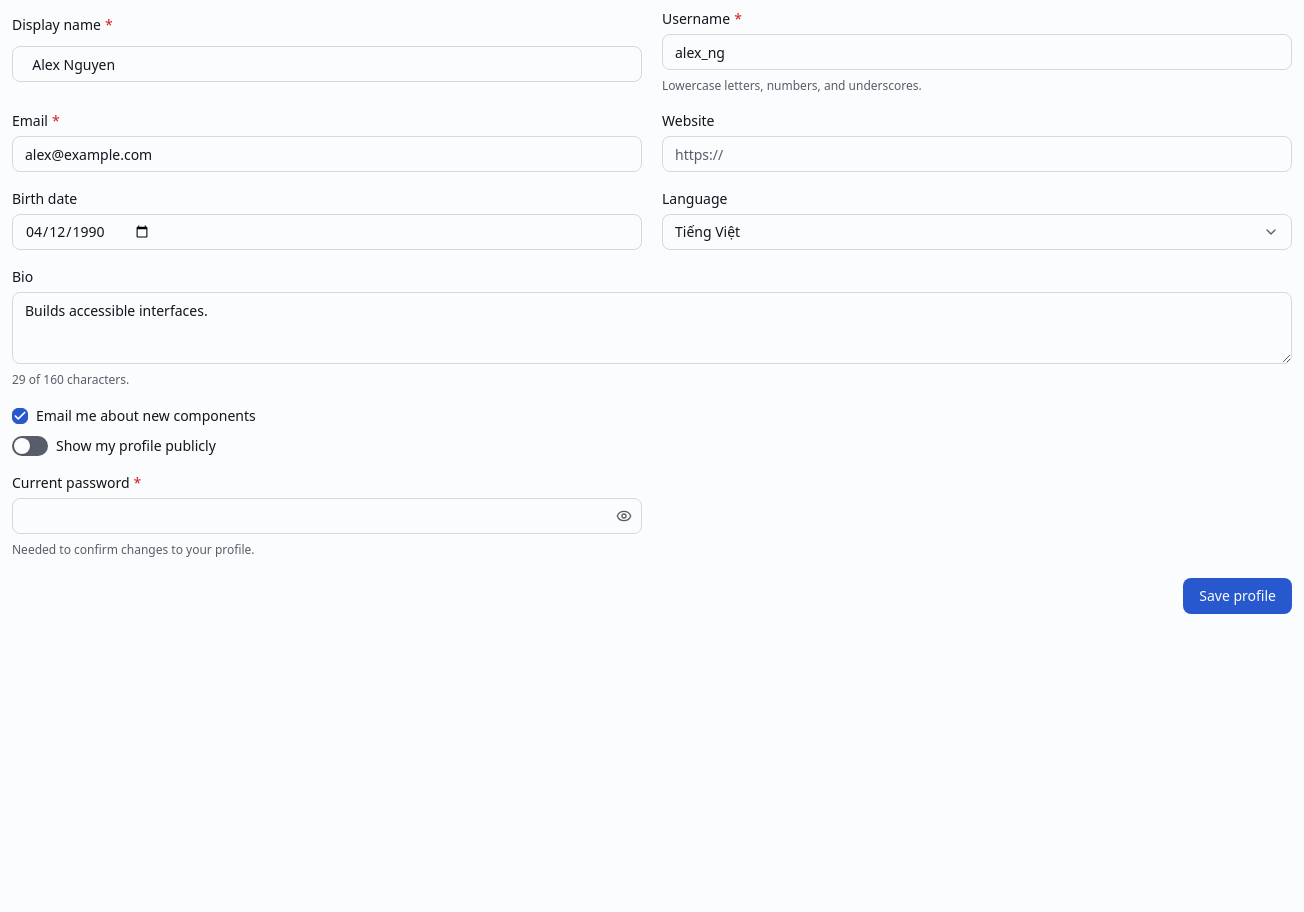
it: ProfileForm › submits typed, parsed values and announces success
Click the checkbox named "Email me about new components": {"x": 20, "y": 416} [12,408,28,424]
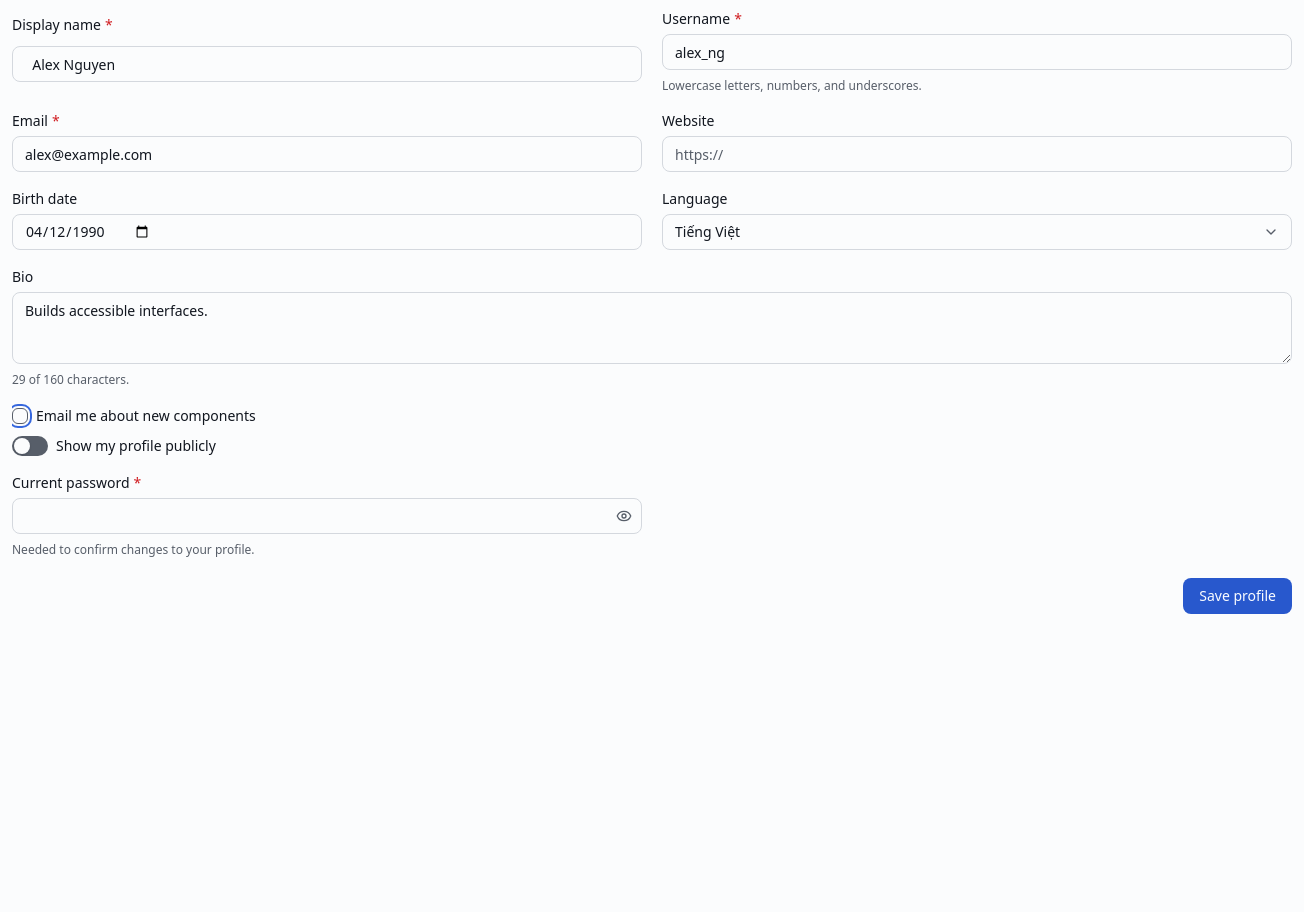
Click the switch named "Show my profile publicly": {"x": 30, "y": 446} [12,436,48,456]
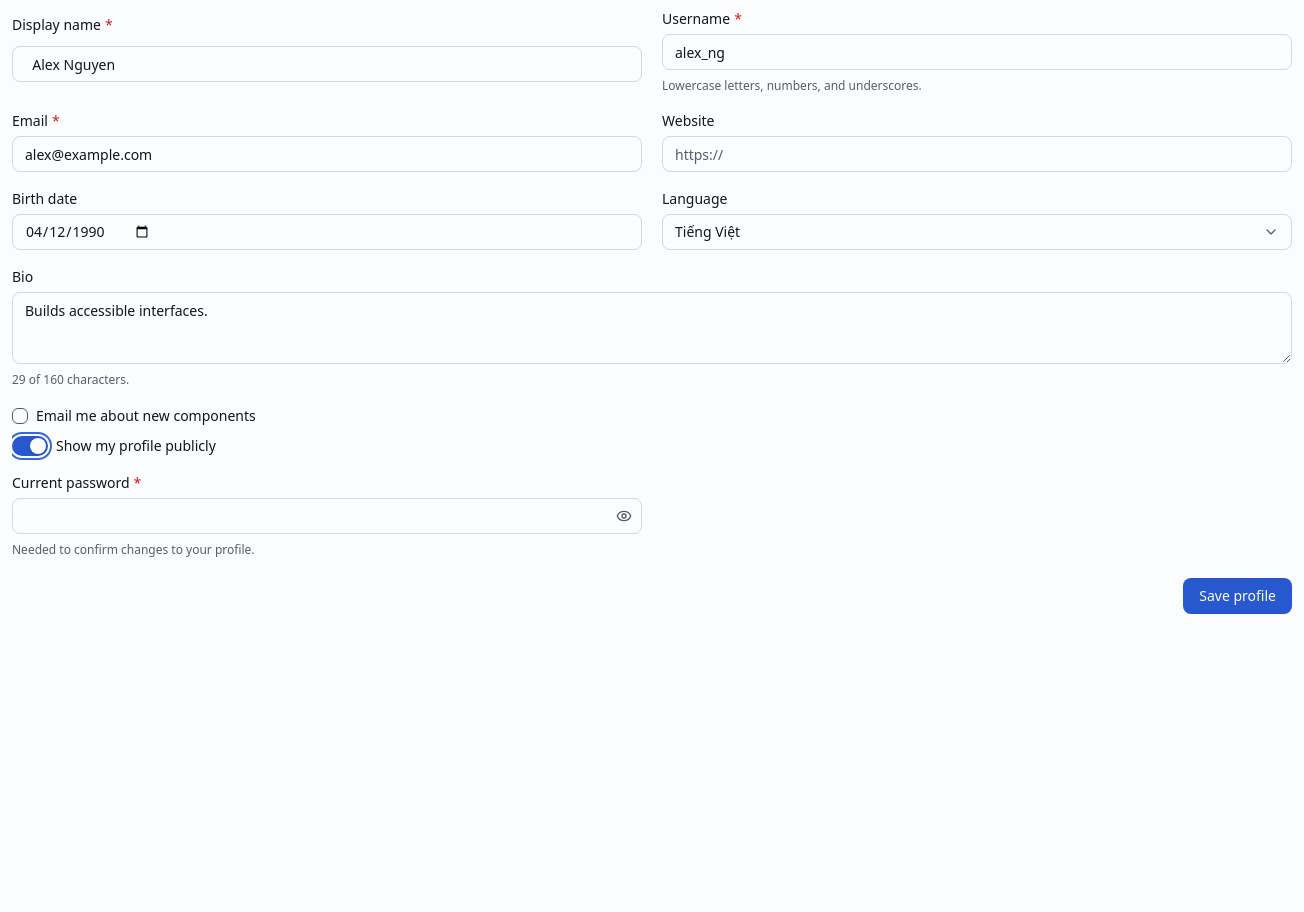
In the password field labelled "Current password *": {"x": 327, "y": 516} [12,498,642,534], type "correct horse"
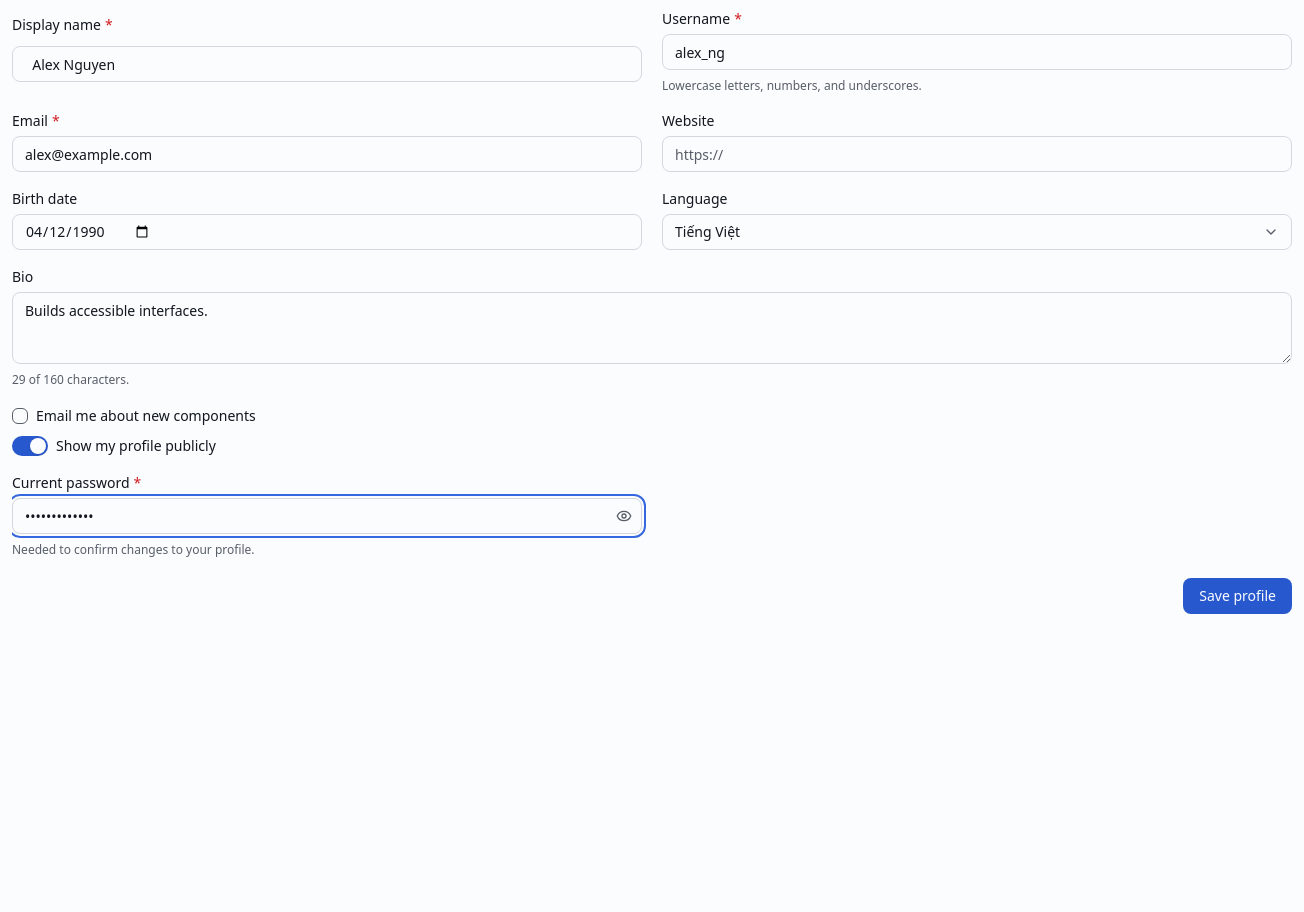
Click the button "Save profile": {"x": 1238, "y": 596} [1183,578,1292,614]
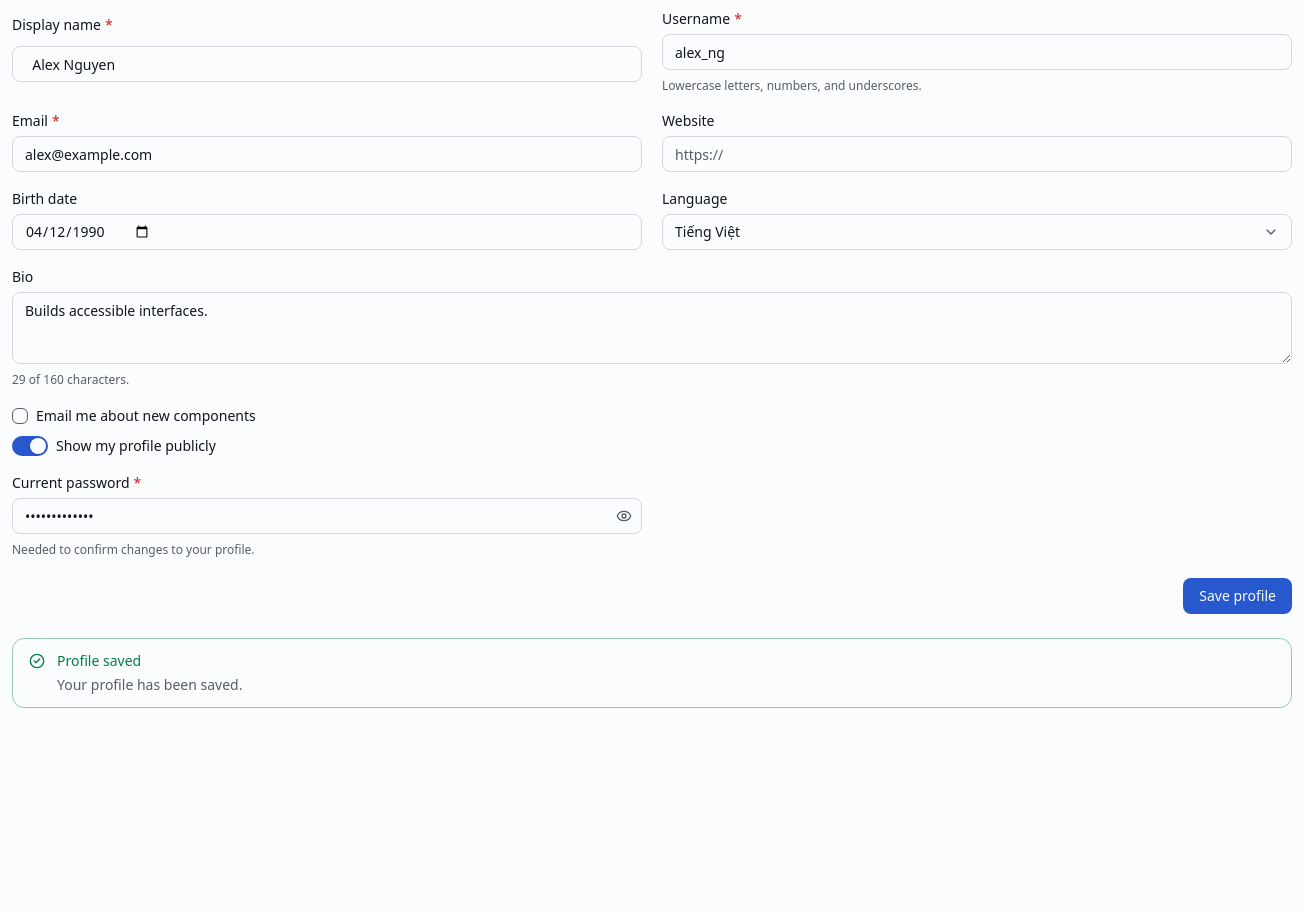
Now the message shows "Profile saved", box [57,651,141,670]
Now the message shows "Your profile has been saved.", box [57,675,242,694]
